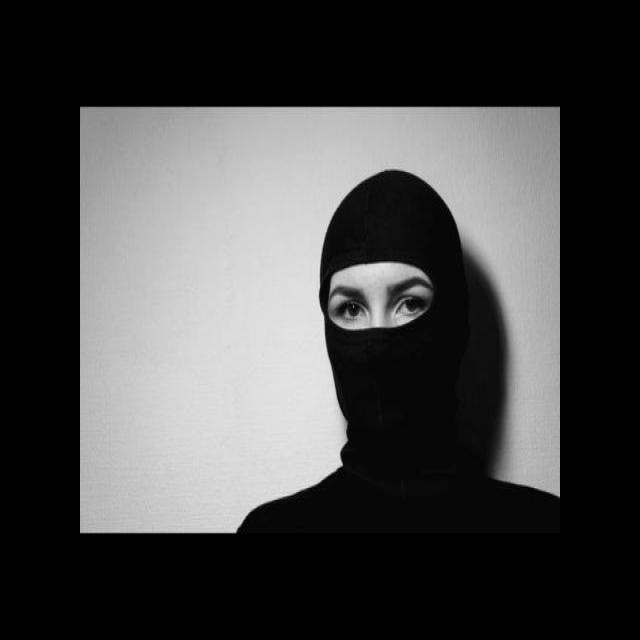6_pasamontana: (319, 170, 469, 433)
